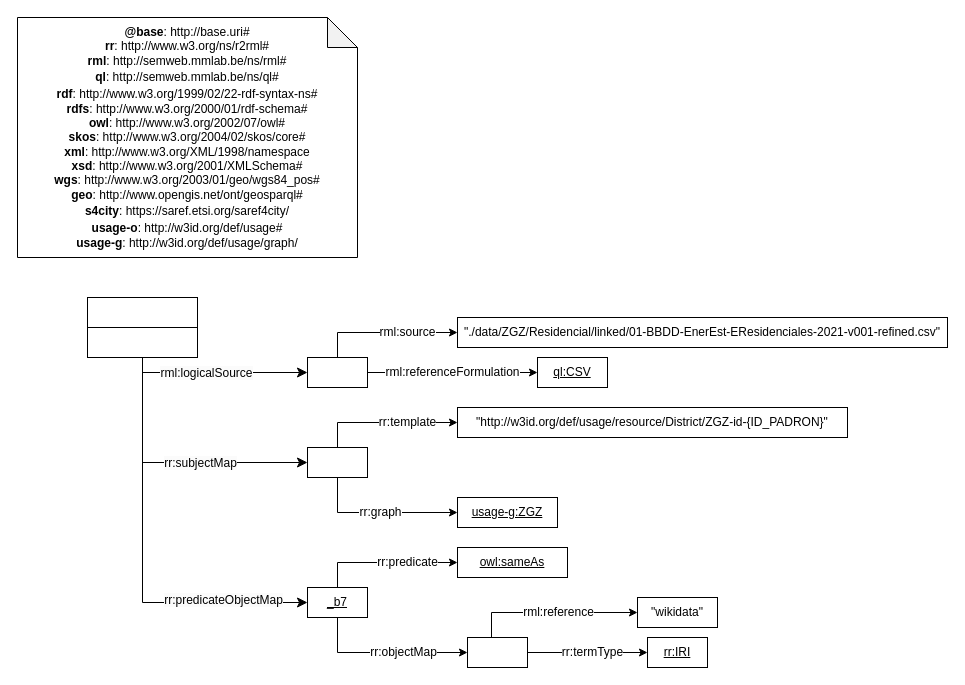
Some shapes in this 965 by 685 pixel diagram are drawn without their labels. The centre of each missing label's shape, as x and y in pixels:
"<#District>" goes at pixel 142 342.
"_b11" goes at pixel 497 652.
"_b5" goes at pixel 337 372.
"_b6" goes at pixel 337 462.
"rr:TriplesMap" goes at pixel 142 312.
